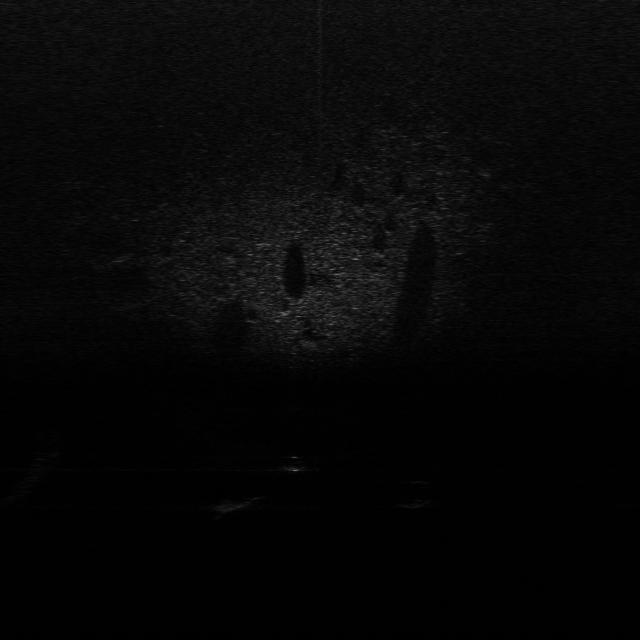ball: (278, 453, 314, 474)
square cage: (216, 490, 262, 515)
tyre: (393, 476, 437, 509)
